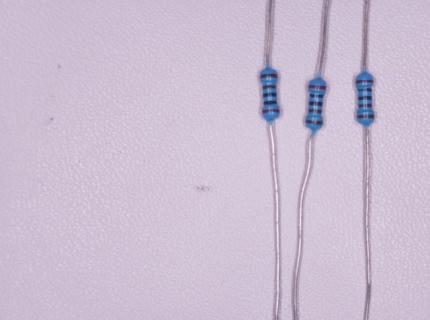Black band: (309, 101, 323, 107), (358, 96, 372, 101), (310, 94, 324, 99), (263, 92, 277, 97), (357, 88, 372, 92), (263, 101, 277, 105)
Brown band: (305, 119, 323, 126), (260, 73, 278, 79), (262, 84, 277, 90), (308, 109, 322, 115), (357, 115, 375, 119), (358, 104, 372, 108)
Red band: (262, 108, 280, 114), (308, 84, 326, 90), (355, 79, 374, 84)
